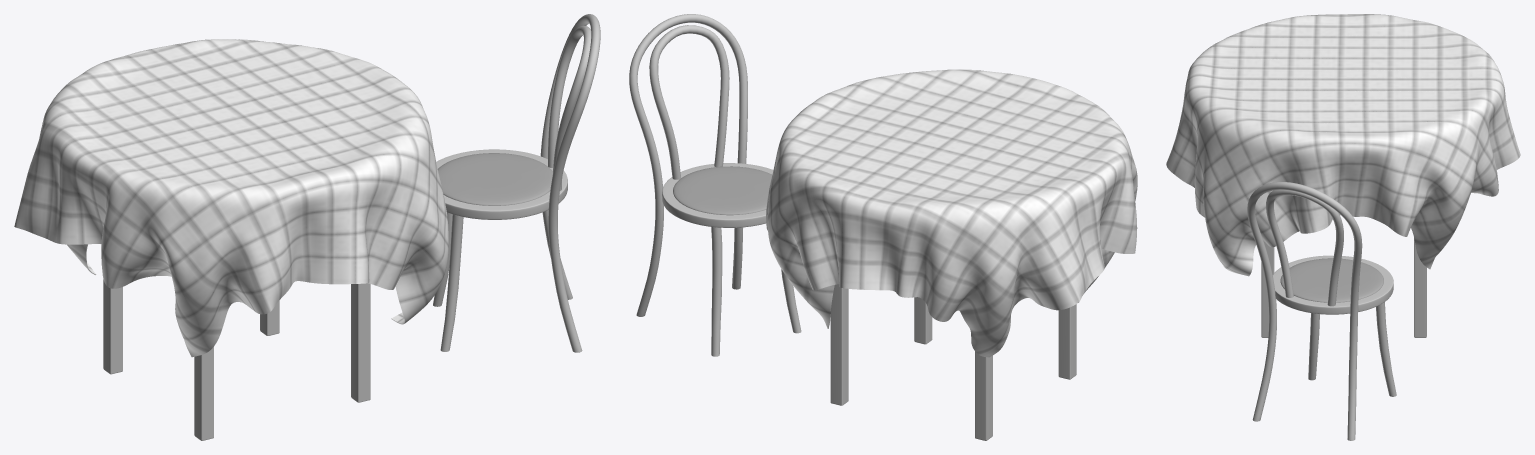
Rendered from tablechair.fbx.
The picture shows the model from 3 angles, left to right: view 1: azimuth 30°, elevation 25°; view 2: azimuth 150°, elevation 25°; view 3: azimuth 270°, elevation 25°; orthographic projection. The views are drawn at different scales.
Visible parts, largest first — view 1: cloth, pCylinder8, pDisc1, chair_1, pCylinder2, table_leg3, table_leg4, table_leg1, pCylinder7; view 2: cloth, pDisc1, pCylinder8, chair_1, table_leg2, pCylinder2, table_leg1, table_leg4, pCylinder5, table_leg3, pCylinder7; view 3: cloth, pDisc1, pCylinder8, pCylinder2, chair_1, table_leg2, pCylinder5, table_leg3, pCylinder7.
Boxes of the visible parts, <box> form: cloth: <box>14,39,448,357</box>; pCylinder8: <box>437,153,552,205</box>; pDisc1: <box>540,14,600,352</box>; chair_1: <box>548,25,591,190</box>; pCylinder2: <box>436,149,567,219</box>; table_leg3: <box>351,283,370,402</box>; table_leg4: <box>194,347,213,440</box>; table_leg1: <box>103,279,122,374</box>; pCylinder7: <box>440,214,463,351</box>; cloth: <box>766,69,1137,357</box>; pDisc1: <box>629,14,747,316</box>; pCylinder8: <box>673,166,772,215</box>; chair_1: <box>649,25,729,179</box>; table_leg2: <box>830,284,848,405</box>; pCylinder2: <box>662,163,773,227</box>; table_leg1: <box>975,351,992,440</box>; table_leg4: <box>1058,304,1076,379</box>; pCylinder5: <box>711,227,722,356</box>; table_leg3: <box>914,297,932,344</box>; pCylinder7: <box>781,269,801,333</box>; cloth: <box>1166,14,1520,276</box>; pDisc1: <box>1247,182,1362,440</box>; pCylinder8: <box>1280,258,1383,302</box>; pCylinder2: <box>1272,255,1393,314</box>; chair_1: <box>1266,190,1343,306</box>; table_leg2: <box>1414,238,1426,337</box>; pCylinder5: <box>1376,302,1396,396</box>; table_leg3: <box>1261,241,1274,337</box>; pCylinder7: <box>1308,313,1319,380</box>.
Size of the model in its own units: 1.59 by 0.8766 by 1.1.
